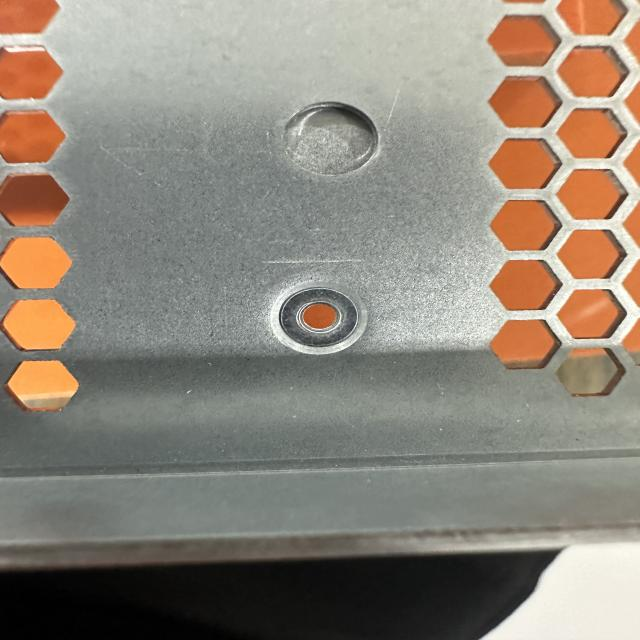Missing screw: (263, 274, 380, 360)
